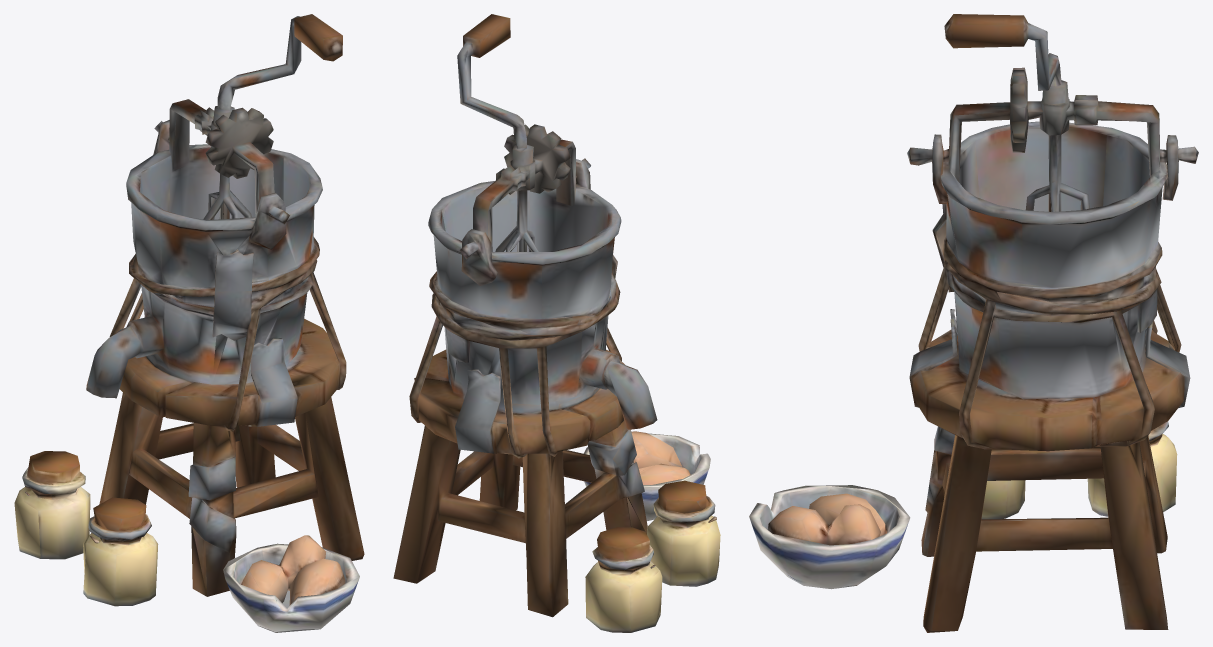
Rendered from jiaobanji-1.glb.
3 views of the same model, side by side, from view 1: azimuth 30°, elevation 25°; view 2: azimuth 150°, elevation 25°; view 3: azimuth 270°, elevation 25° (orthographic). The views are drawn at different scales.
Visible parts, largest first — view 1: node_0; view 2: node_0; view 3: node_0.
Part boxes in pixels (left/top/right/bottom): node_0: left=14, top=14, right=364, bottom=632; node_0: left=393, top=14, right=720, bottom=632; node_0: left=749, top=14, right=1198, bottom=632.
Bounding box in the file's own units: 0.5235 × 0.9623 × 0.6482.
Materials: 1 (1 with a texture image).
